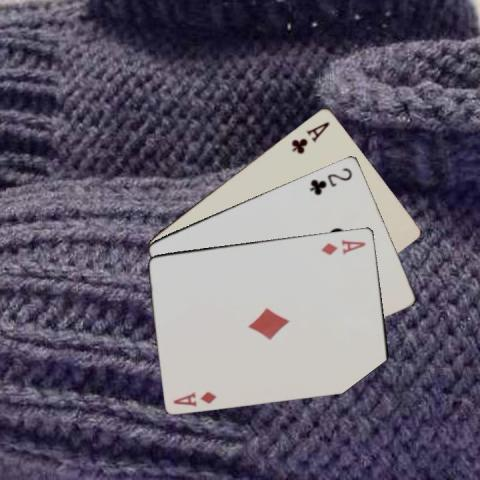2c: (307, 164, 354, 197)
Ac: (288, 118, 331, 155)
Ad: (318, 236, 367, 256), (170, 388, 218, 407)
